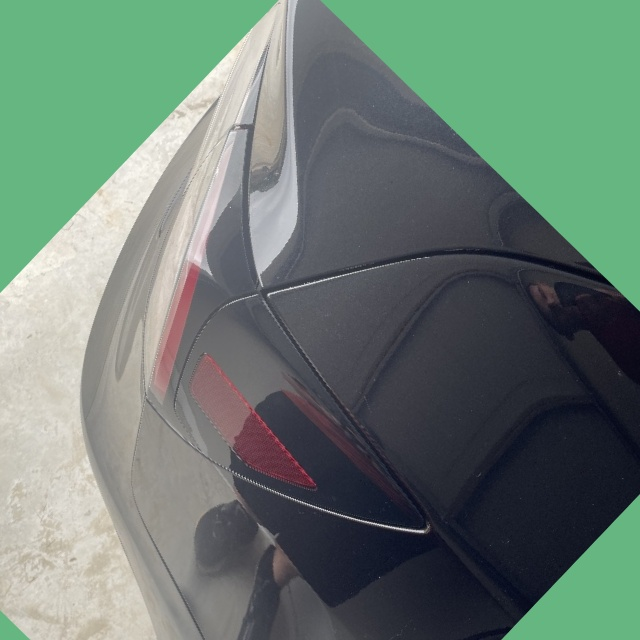reflector: (168, 351, 329, 511)
